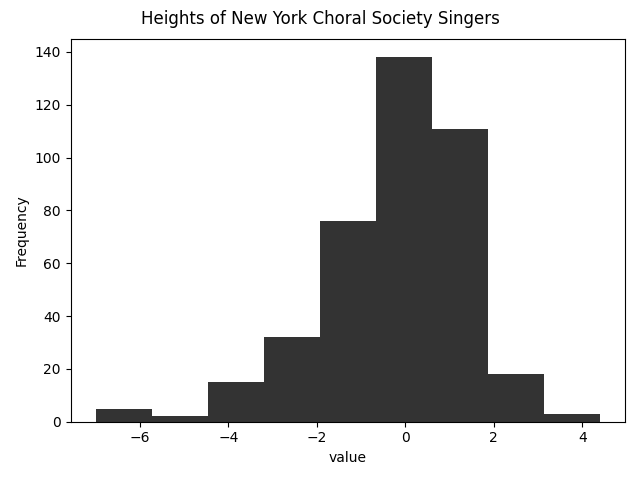canvas: (82, 44, 618, 423)
title: (135, 6, 506, 31)
x-axis: (63, 419, 635, 430)
x-labels: (126, 429, 597, 444)
x-title: (319, 450, 372, 467)
y-axis: (64, 27, 74, 429)
y-labels: (33, 41, 63, 431)
y-title: (13, 192, 30, 272)
